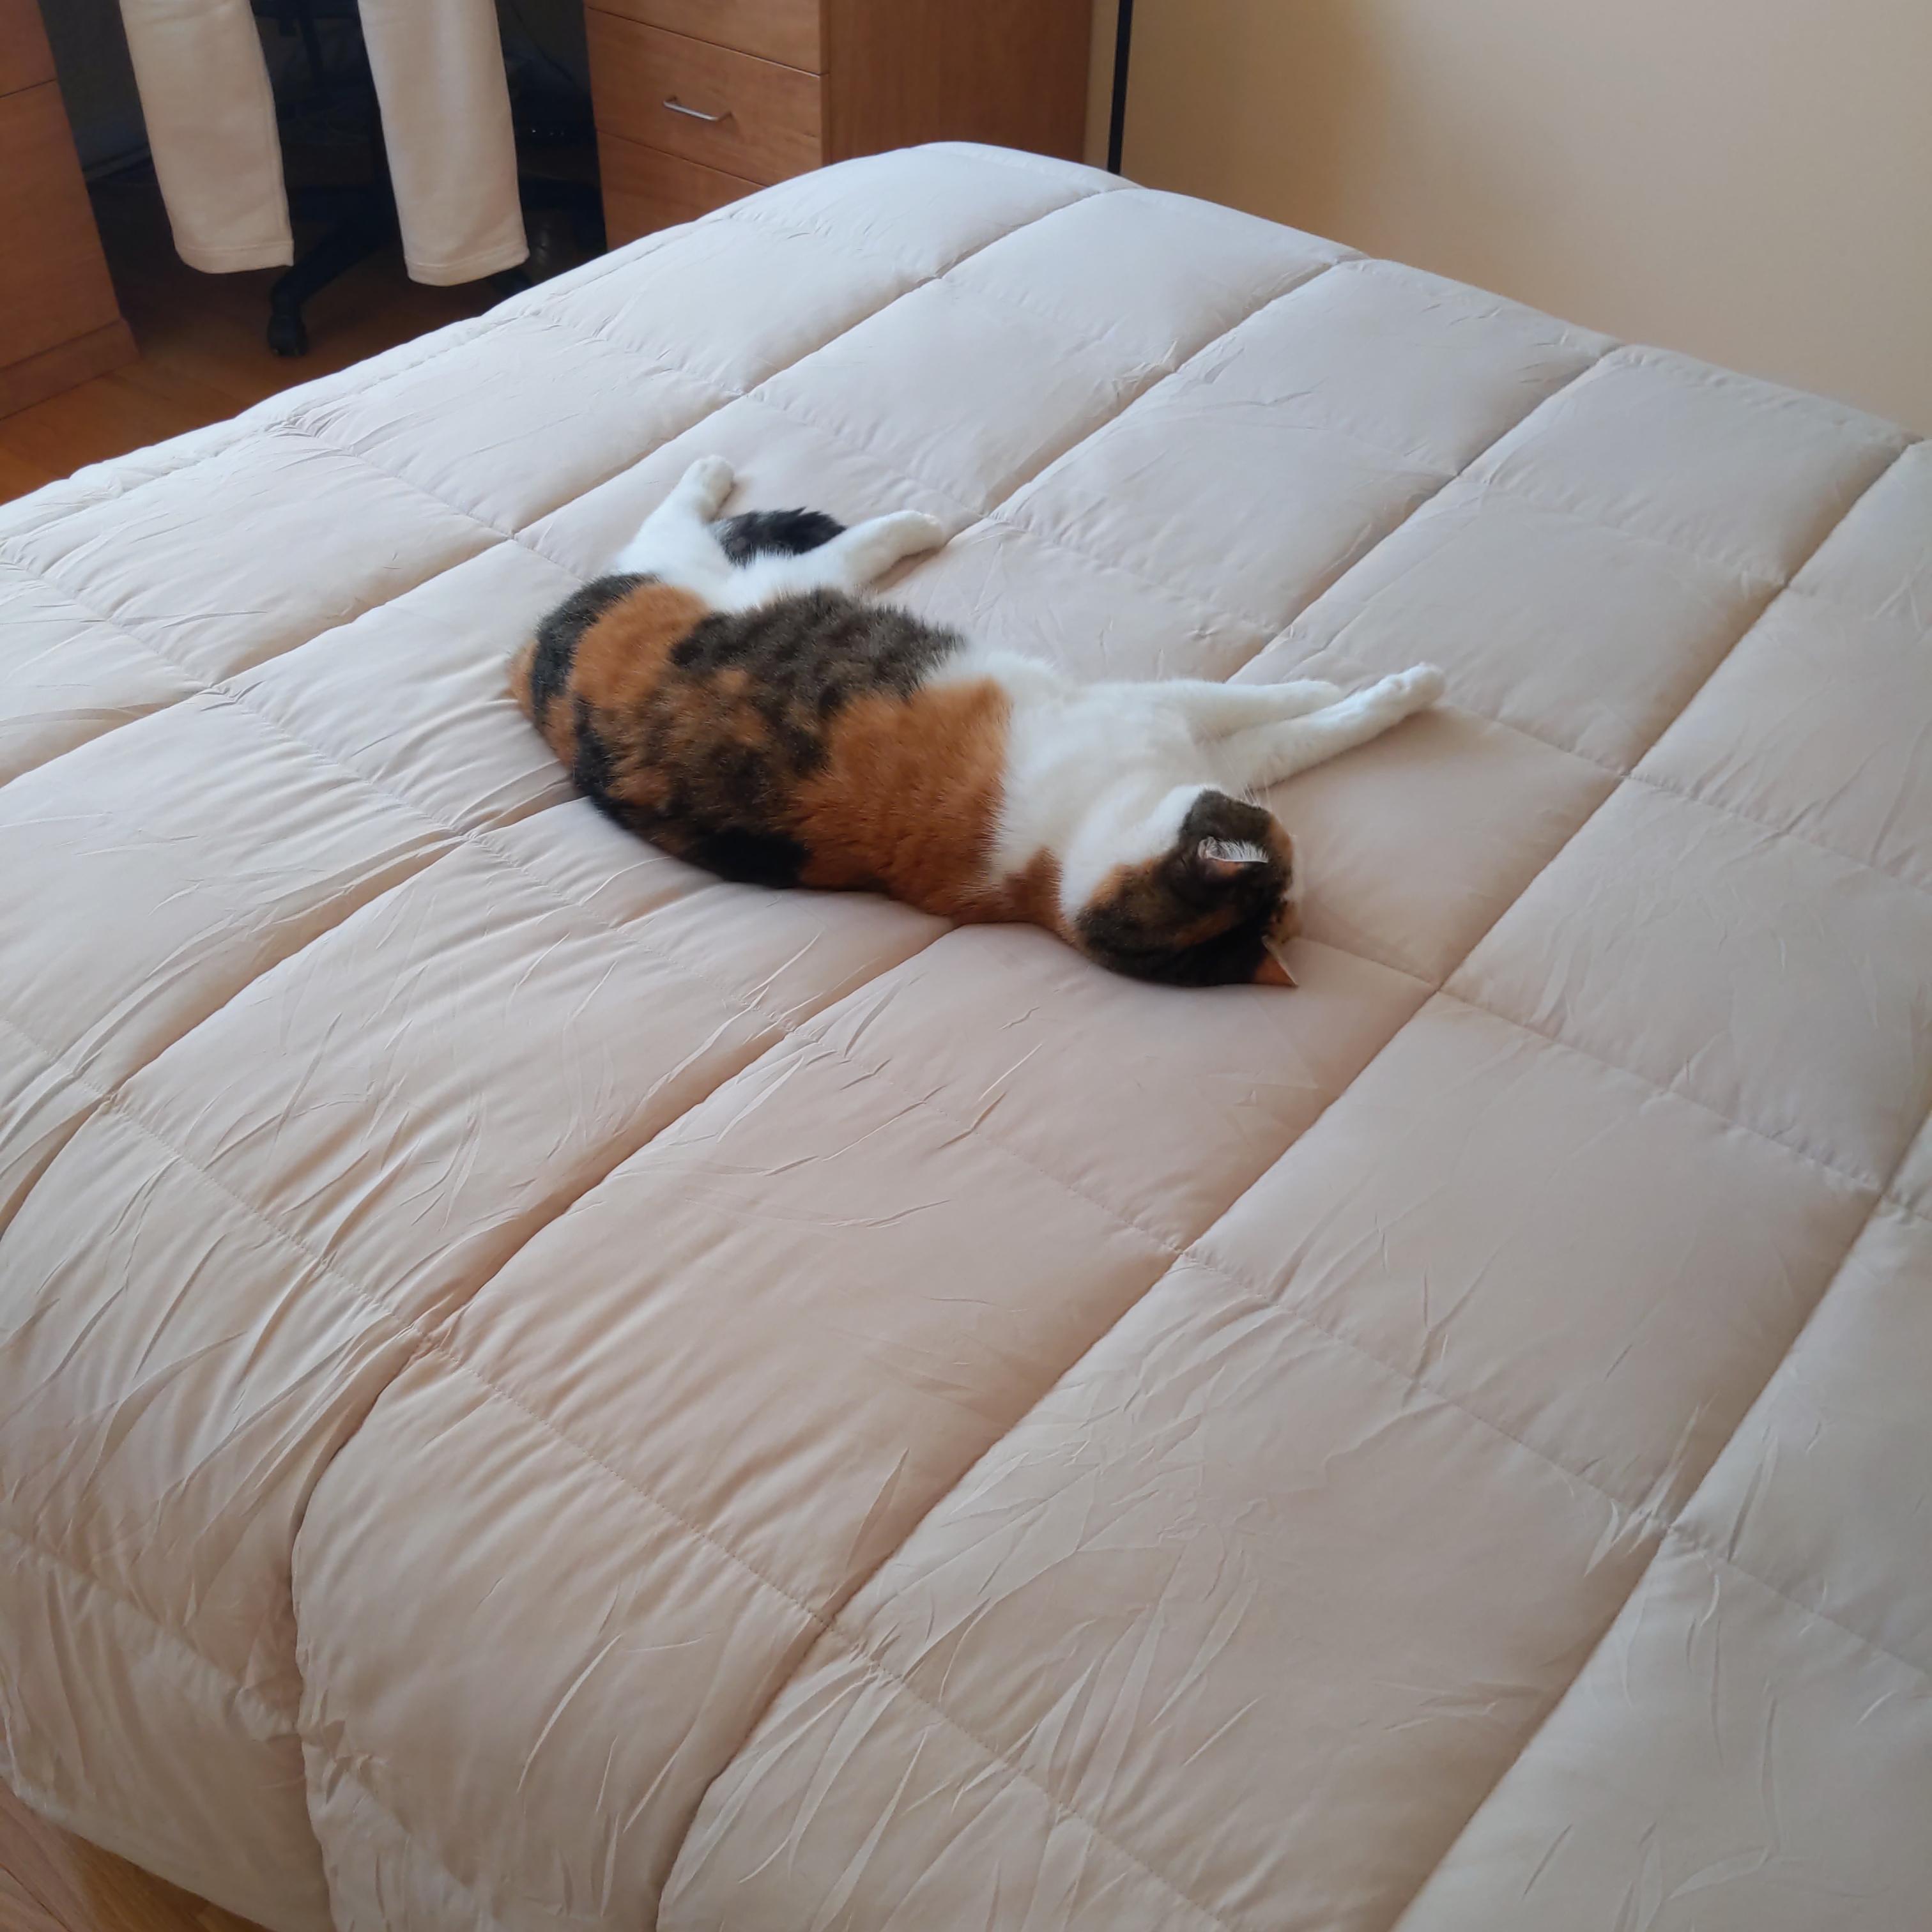Calico: (513, 455, 1447, 994)
